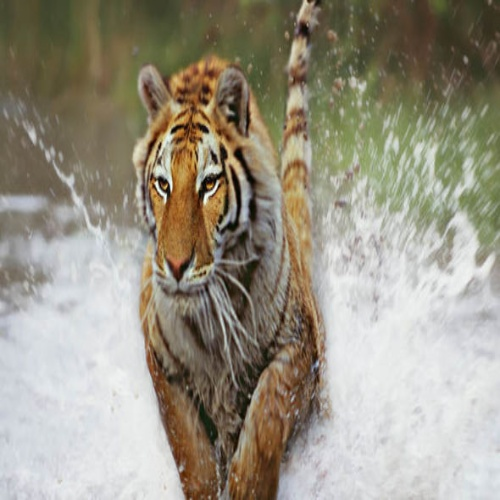tiger: (100, 38, 287, 438)
